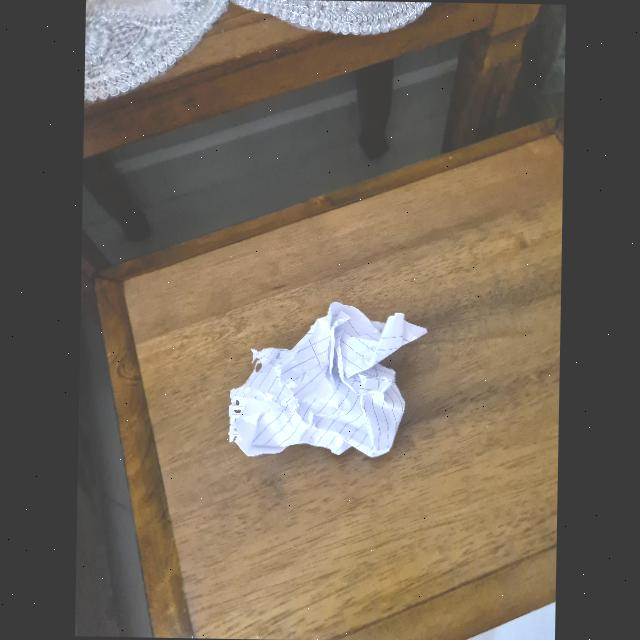trash: (222, 300, 420, 460)
